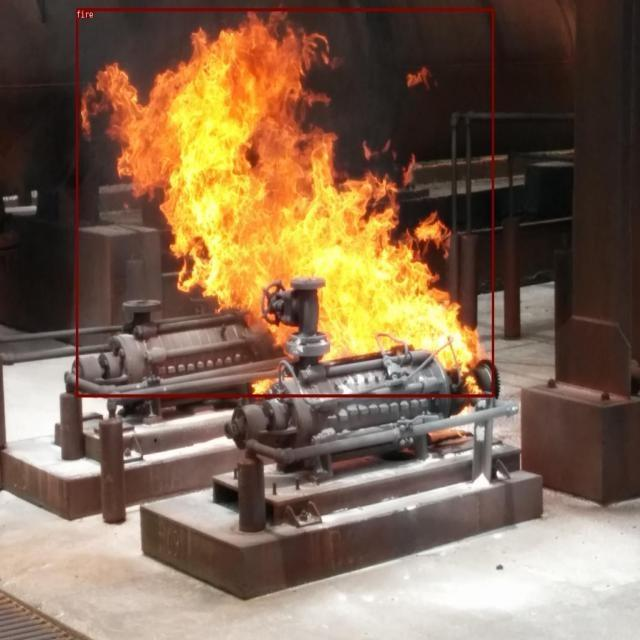fire: (76, 8, 494, 397)
